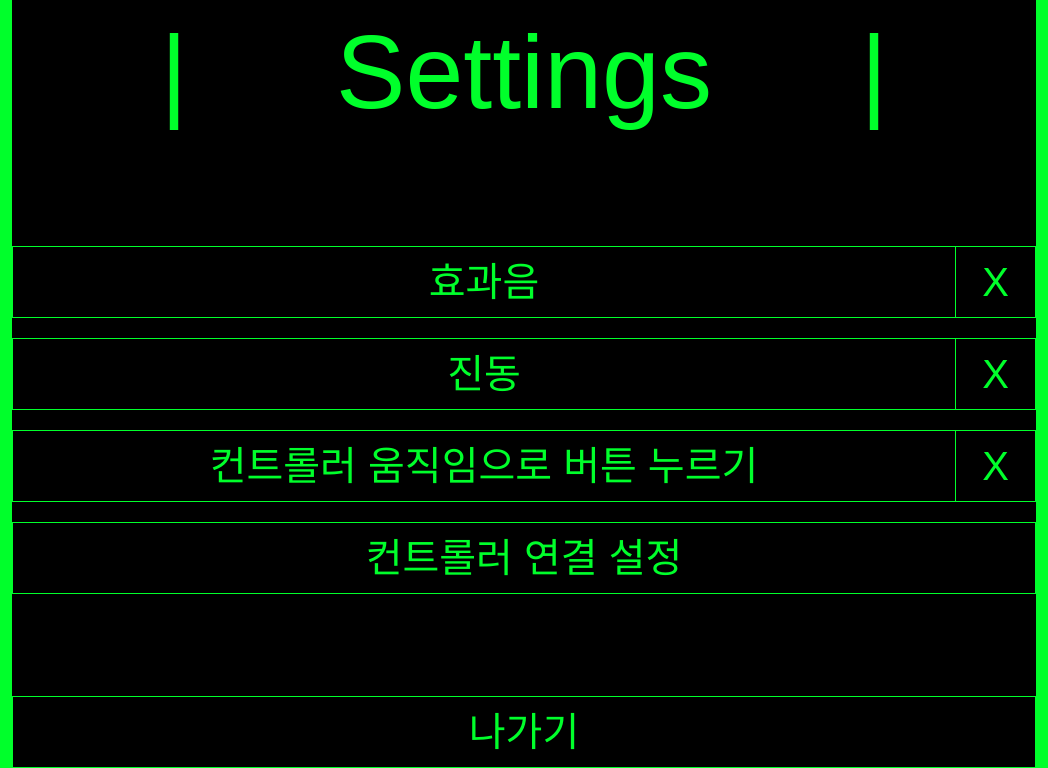
Test: Settings 페이지 테스트 › 컨트롤러 움직임으로 버튼 누르기 버튼을 누른 경우 토글되어야 합니다
What coordinates should you click on to do the following:
click the button "컨트롤러 움직임으로 버튼 누르기"
I would click on:
 (484, 466)
Its box is [12,430,956,502].
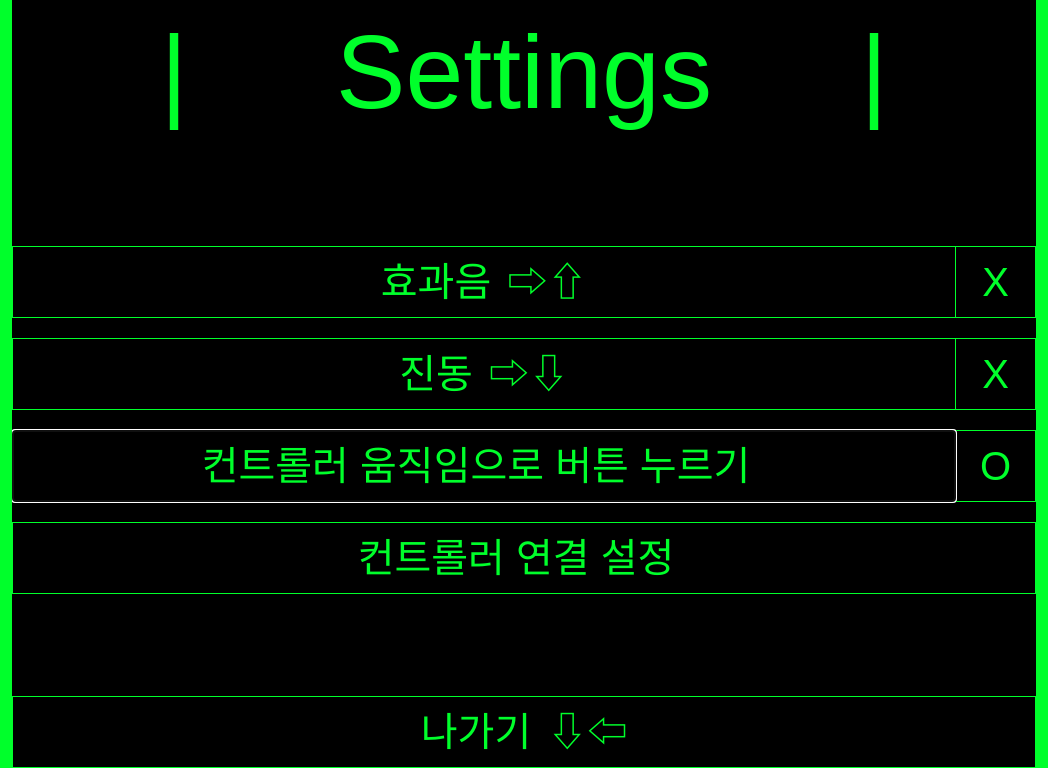
Expected: the text with test id "test-컨트롤러 움직임으로 버튼 누르기" reads "O", [980,444,1011,488]
